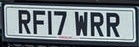character: (105, 12, 120, 38), (52, 10, 67, 35), (17, 9, 31, 35), (74, 11, 88, 37), (90, 11, 104, 37), (32, 9, 45, 35), (46, 10, 52, 35)
